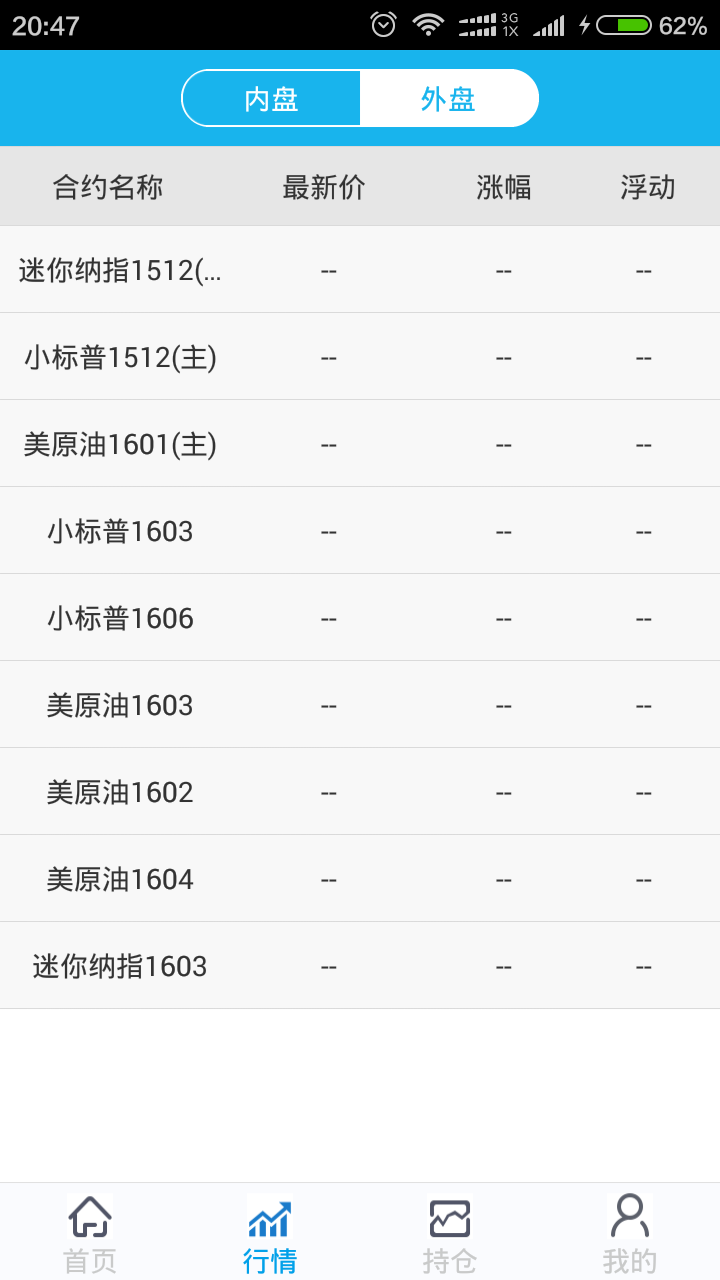nav: (44, 1184, 675, 1280)
